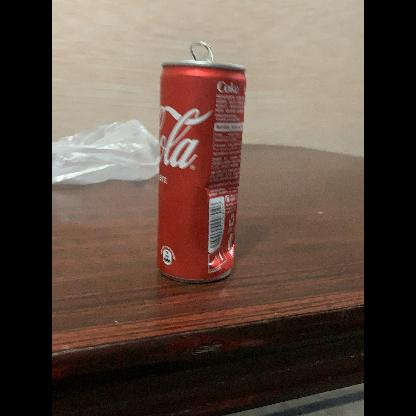Dent_Can: (204, 233, 234, 271), (201, 174, 238, 203)
Lid_Open: (186, 35, 221, 67)
Tin_Can: (150, 37, 246, 286)
